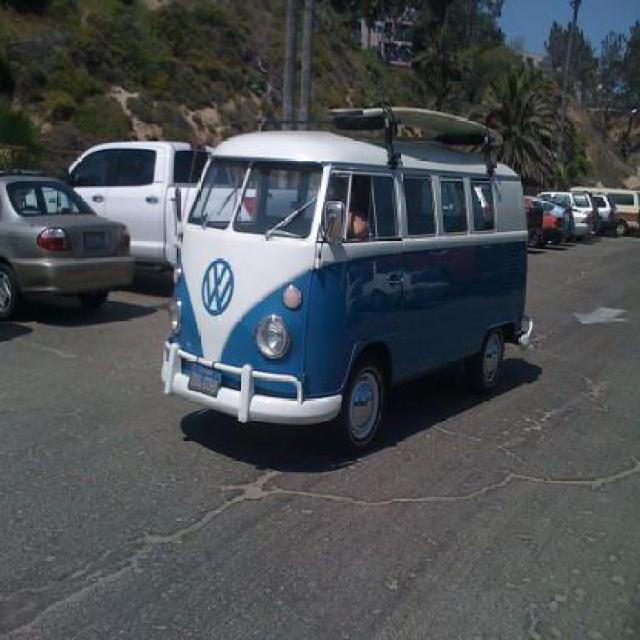Person: (345, 193, 369, 235)
